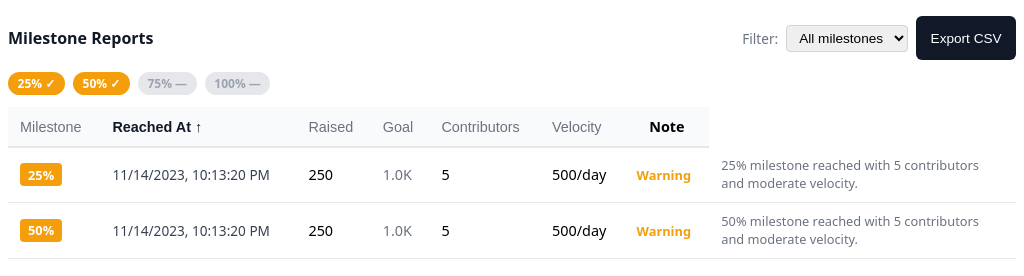
Scenario: MilestoneReports — filter › selecting a threshold filters the table
The width and height of the screenshot is (1024, 276).
Select "25%" in the dropdown with test id "report-filter-select". click: (847, 38)
box: [786, 24, 908, 52]
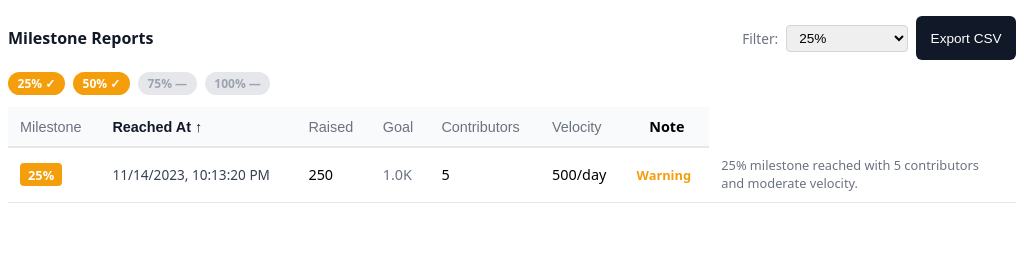
Check: the row with test id "report-row-25" is shown, box [8, 147, 1016, 202]
Check: the row with test id "report-row-50" is gone
